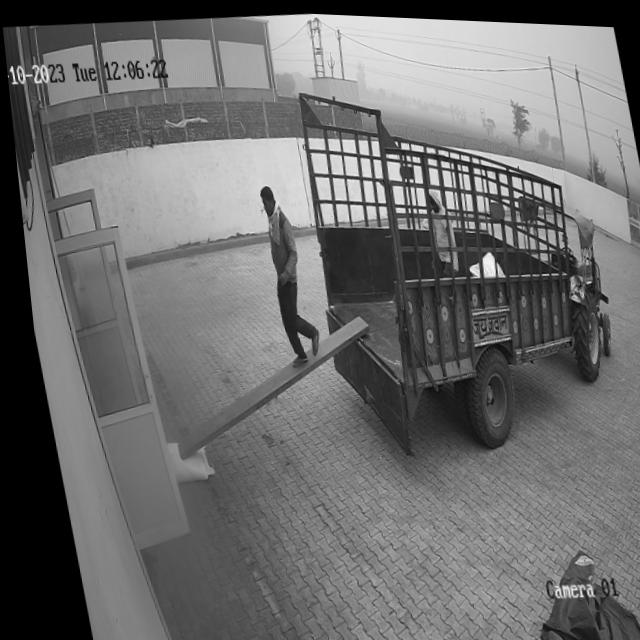sack: (155, 436, 205, 482)
